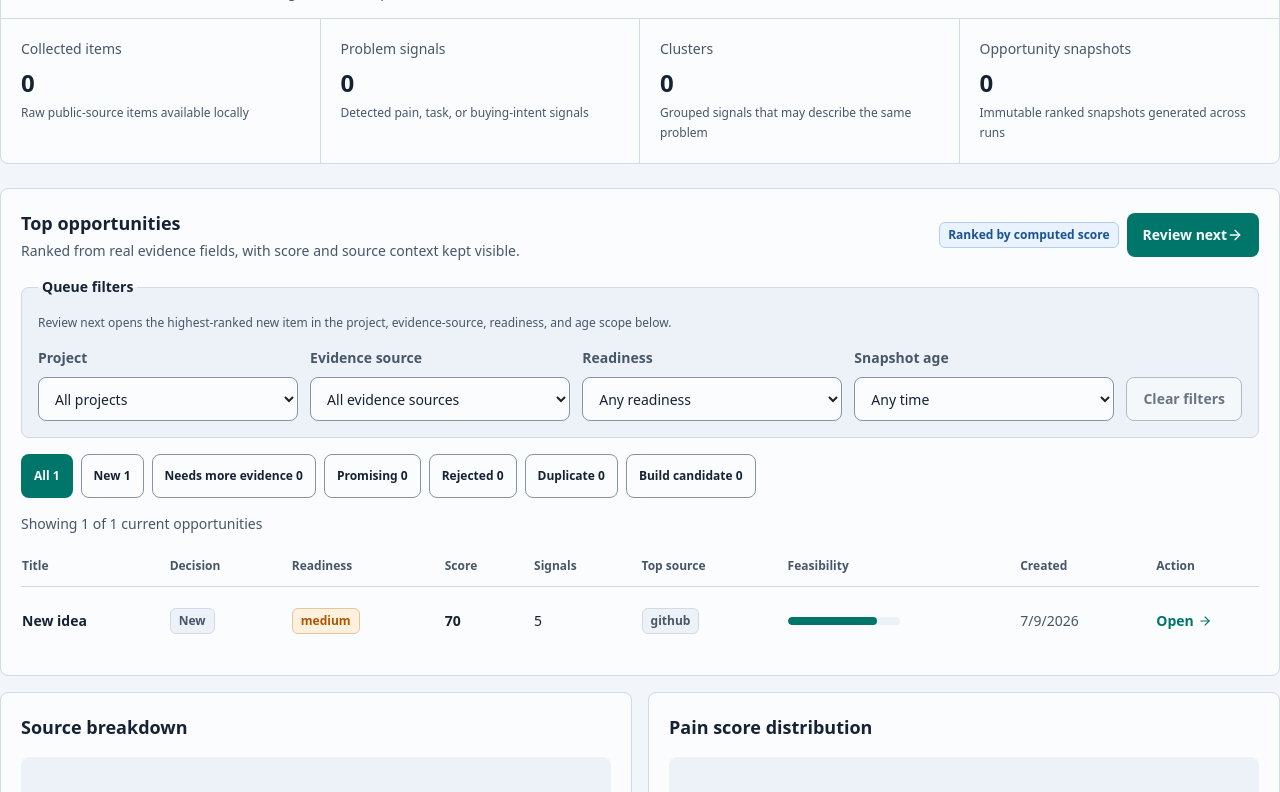
Test: Dashboard › does not present a failed scope filter as an empty review queue
The width and height of the screenshot is (1280, 792).
(page scrolled)
Expected: the link "New idea" is shown, [22,611,87,630]
Select "github" in the dropdown labelled "Evidence source" at (440, 399), box [310,377,570,421]
(page scrolled)
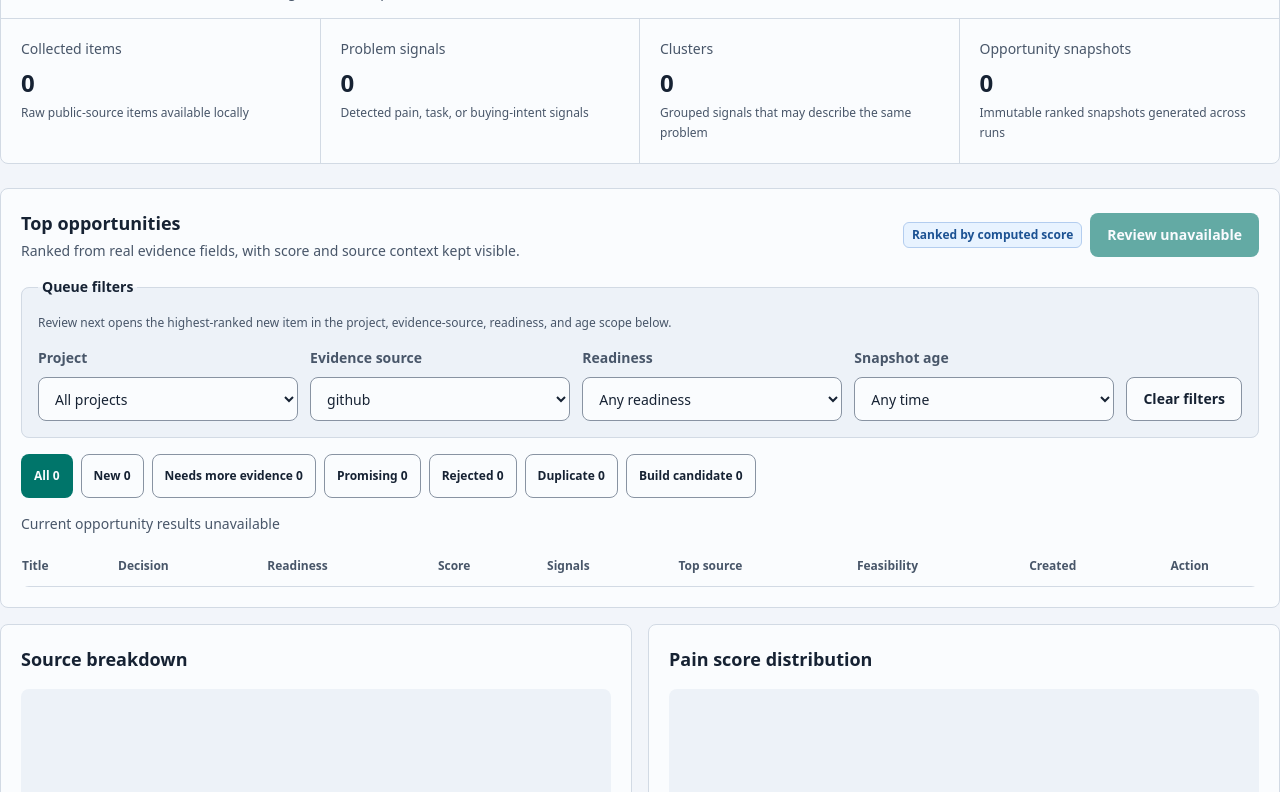
Now the text "Current opportunity results unavailable" is shown, box [21,514,280,533]
Now the button "Review unavailable" is disabled, box [1090,213,1259,257]
